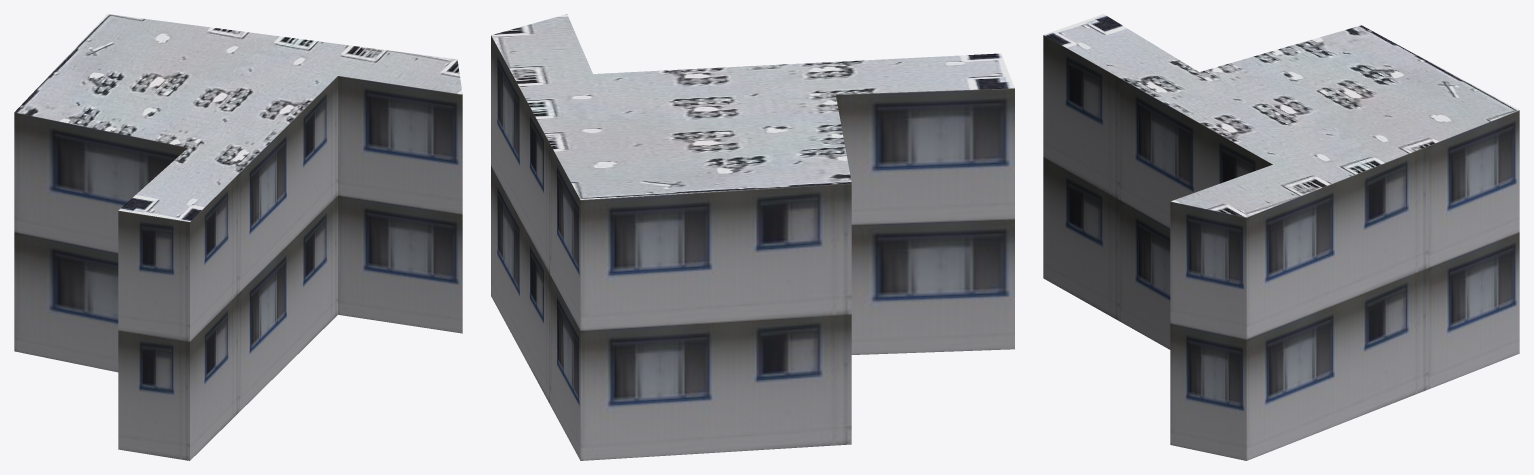
File: ResTex__3075.fbx
3 renders of one model, left to right at view 1: azimuth 30°, elevation 25°; view 2: azimuth 150°, elevation 25°; view 3: azimuth 270°, elevation 25°, orthographic. The views are drawn at different scales.
Parts seen in each view (by area): view 1: CityEngineMaterial_9_m, CityEngineMaterial_8_m; view 2: CityEngineMaterial_9_m, CityEngineMaterial_8_m; view 3: CityEngineMaterial_9_m, CityEngineMaterial_8_m.
Boxes of the visible parts, left/top/right/bottom form: CityEngineMaterial_9_m: left=14, top=76, right=462, bottom=460; CityEngineMaterial_8_m: left=14, top=14, right=462, bottom=221; CityEngineMaterial_9_m: left=491, top=35, right=1014, bottom=460; CityEngineMaterial_8_m: left=491, top=14, right=1014, bottom=199; CityEngineMaterial_9_m: left=1043, top=35, right=1519, bottom=460; CityEngineMaterial_8_m: left=1044, top=14, right=1519, bottom=217.
Size of the model in its own units: 10.76 by 6 by 10.64.
2 materials, 2 textured.
